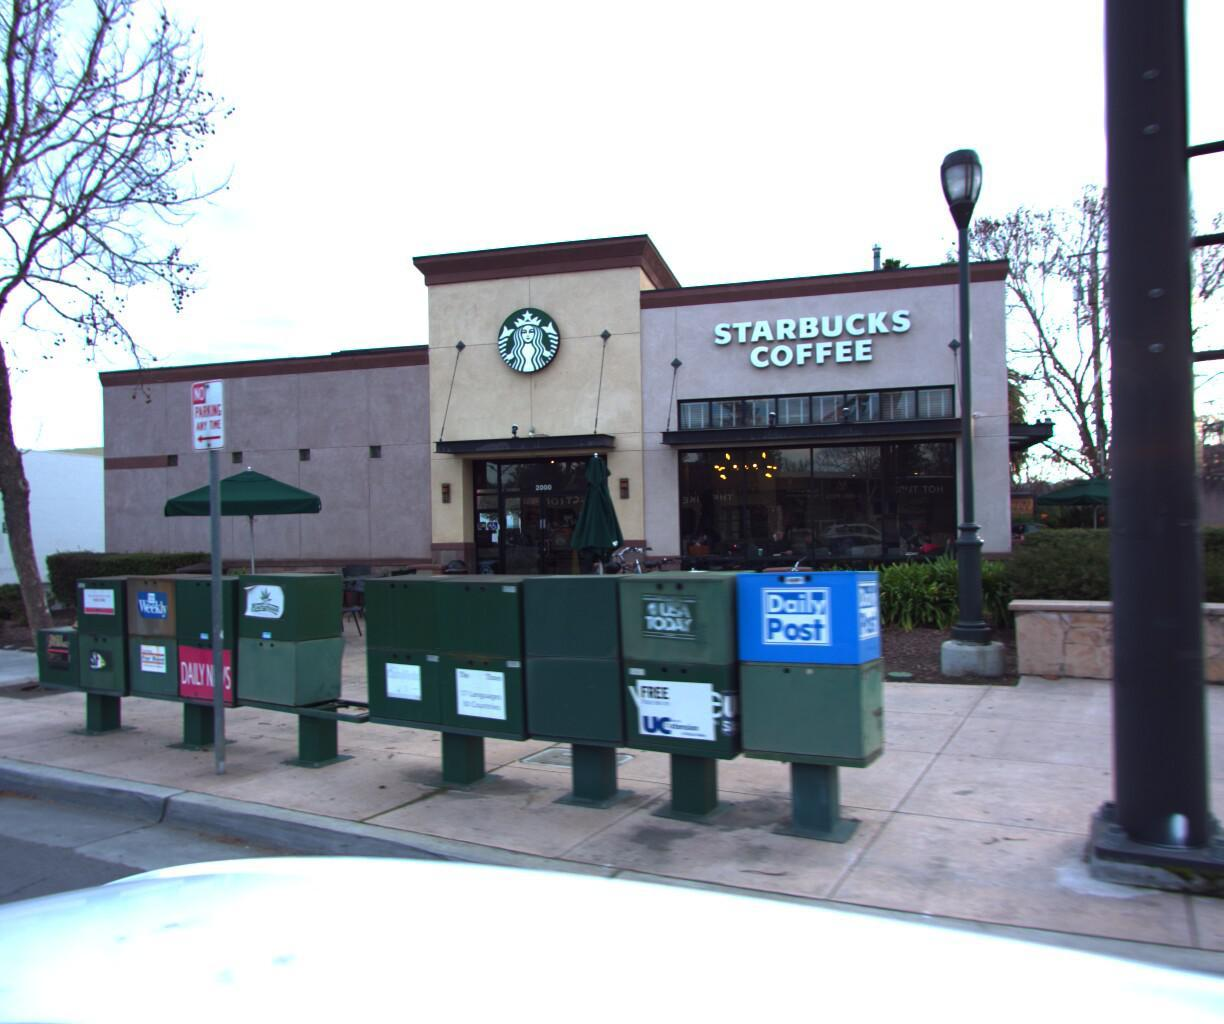bicycle: (592, 541, 689, 630), (668, 540, 762, 631), (768, 543, 856, 641), (694, 564, 752, 678)
